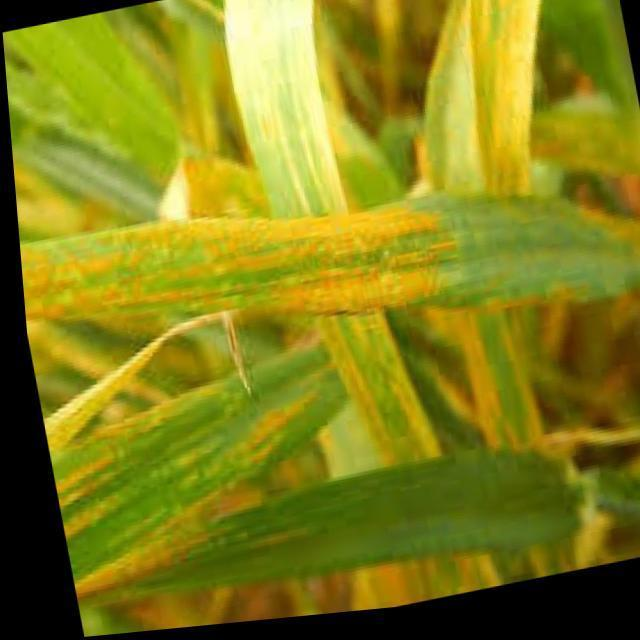Yellow Rust: (0, 0, 624, 334), (44, 348, 343, 583)
